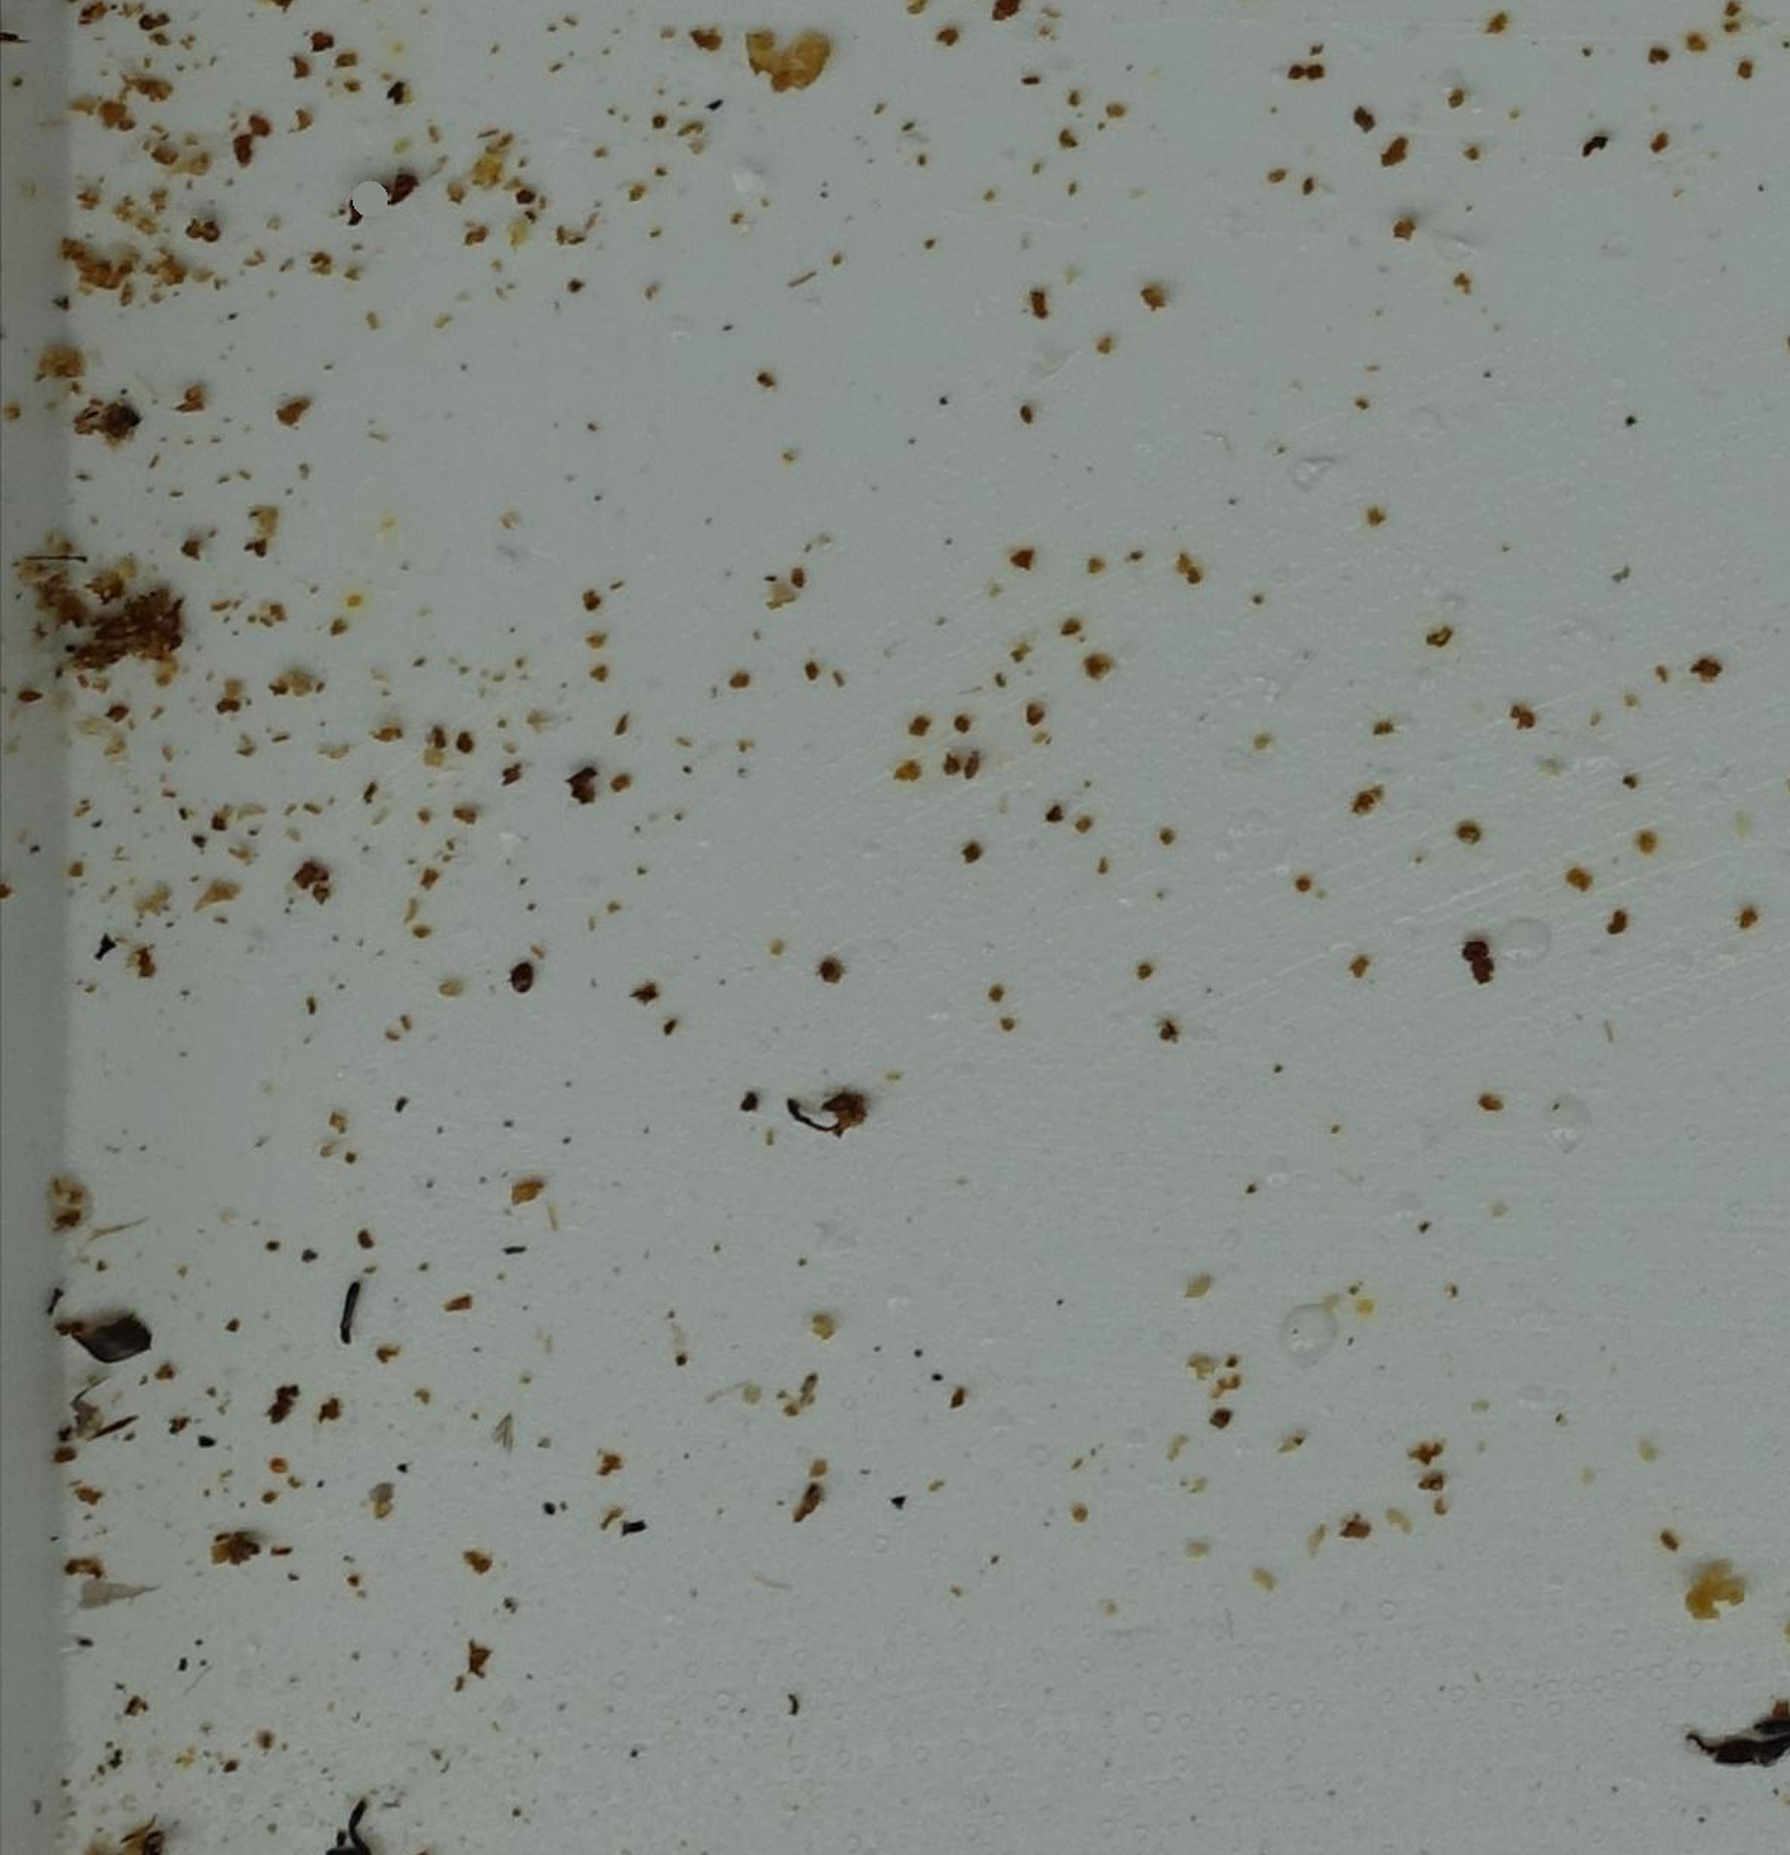Varroa: (1459, 932, 1495, 969), (508, 962, 538, 992)
